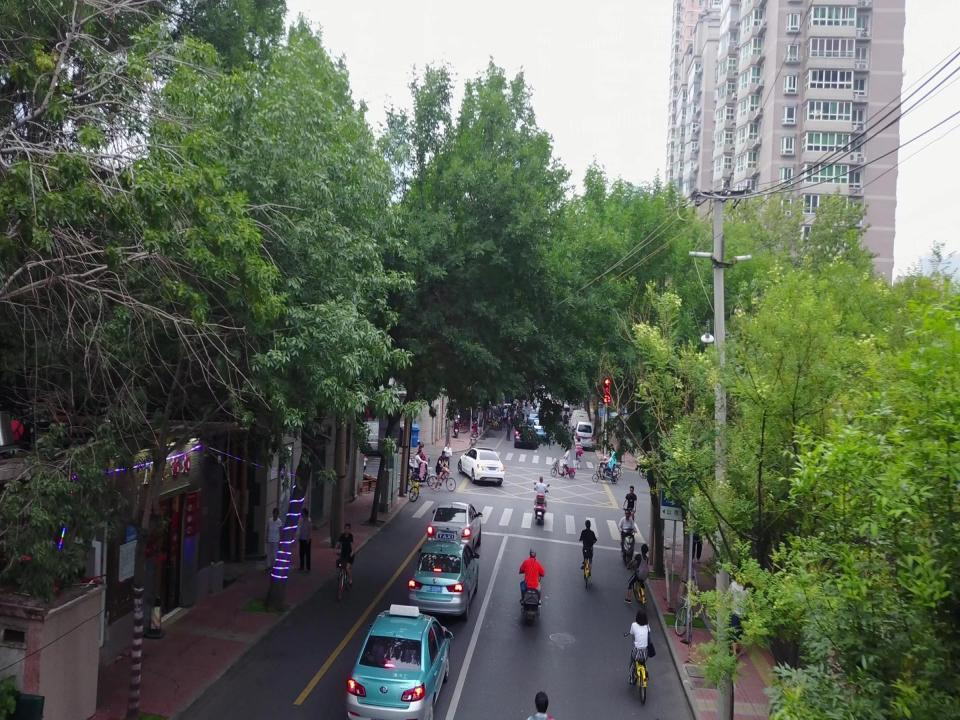car: (347, 603, 453, 720), (408, 536, 478, 623), (425, 500, 481, 557), (457, 446, 506, 488), (514, 425, 538, 452), (527, 413, 541, 428)
van: (342, 419, 396, 458), (573, 421, 594, 452), (534, 420, 550, 441)
